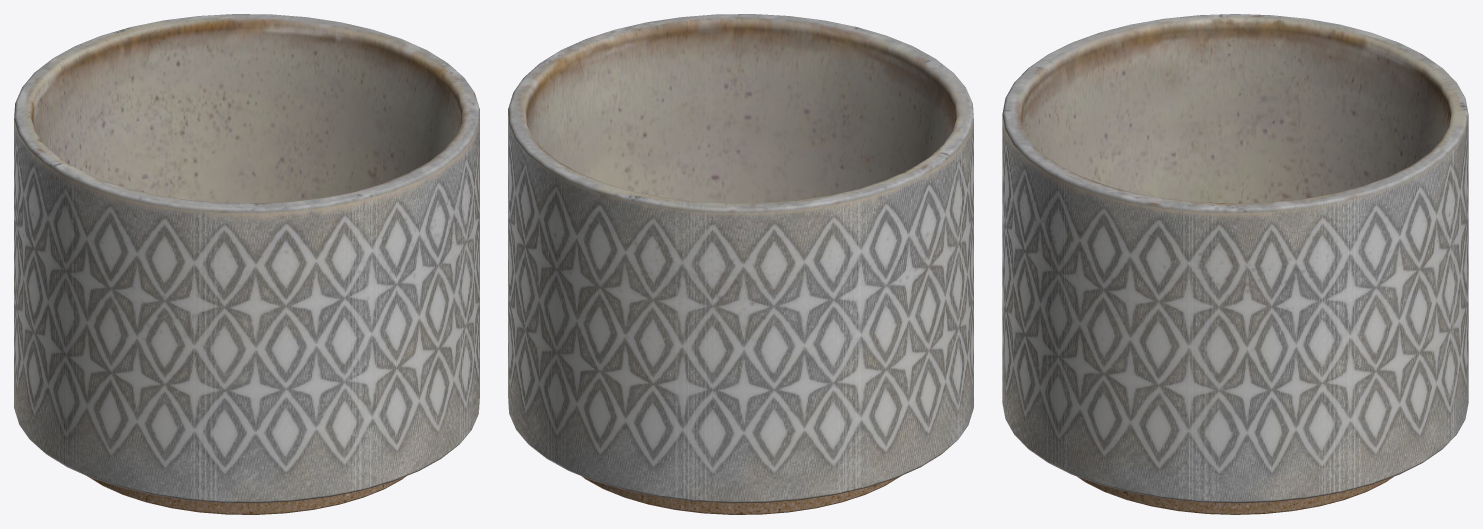
Rendered from planter_B075HWDTHP.glb.
3 views of the same model, side by side, from view 1: azimuth 30°, elevation 25°; view 2: azimuth 150°, elevation 25°; view 3: azimuth 270°, elevation 25° (orthographic).
Parts seen in each view (by area): view 1: RootNode; view 2: RootNode; view 3: RootNode.
Boxes of the visible parts, x1,y1,x2,y2 form: RootNode: (14, 14, 479, 514); RootNode: (508, 14, 973, 514); RootNode: (1002, 14, 1468, 514).
Size of the model in its own units: 0.1862 by 0.144 by 0.1862.
Materials: 1 (1 with a texture image).
